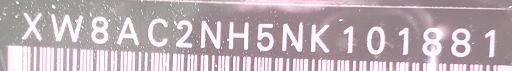letter: (48, 11, 86, 44), (419, 24, 443, 61), (18, 9, 44, 42), (115, 15, 141, 48), (448, 26, 474, 59), (198, 14, 222, 49), (226, 19, 250, 52), (280, 21, 304, 54), (146, 17, 170, 48), (310, 21, 330, 56), (172, 18, 194, 49), (254, 20, 274, 53), (90, 15, 110, 46), (366, 25, 386, 56), (480, 26, 496, 59), (340, 24, 356, 55), (397, 23, 411, 58)
